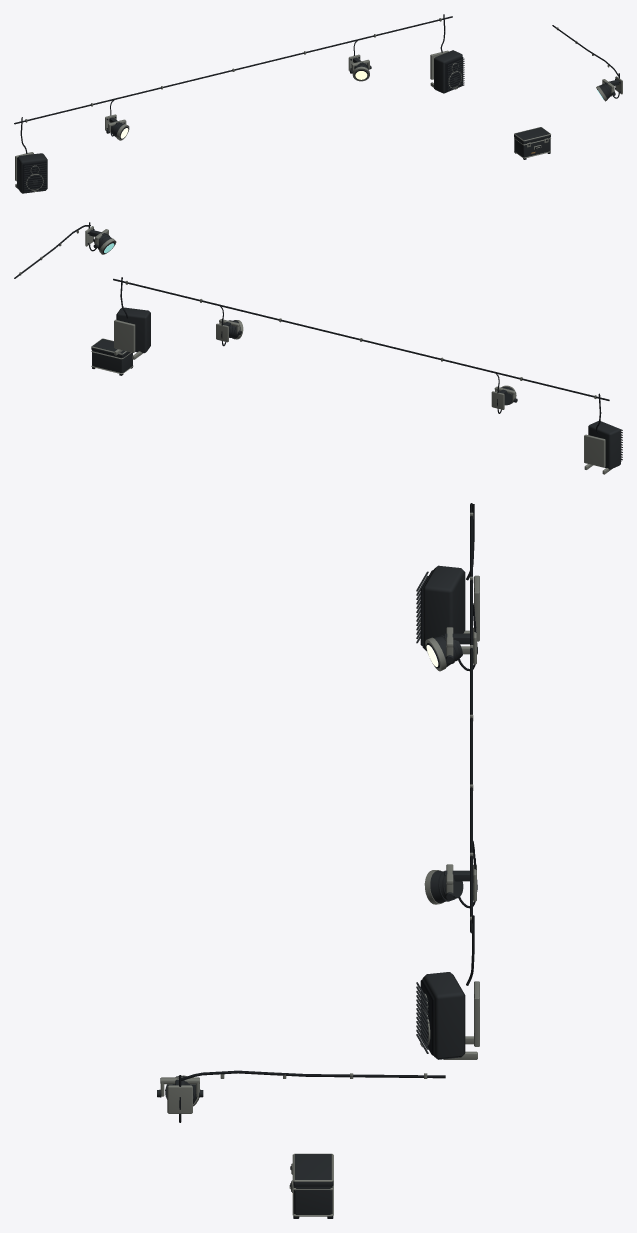
Rendered from club-lighting.glb.
3 views of the same model, one above another, from view 1: azimuth 30°, elevation 25°; view 2: azimuth 150°, elevation 25°; view 3: azimuth 270°, elevation 25° (orthographic). The views are drawn at different scales.
Parts seen in each view (by area): view 1: Club acoustic and lighting installation; view 2: Club acoustic and lighting installation; view 3: Club acoustic and lighting installation.
Boxes of the visible parts, box(x1,y1,x2,y2) form: Club acoustic and lighting installation: box(14, 14, 622, 193); Club acoustic and lighting installation: box(14, 222, 622, 474); Club acoustic and lighting installation: box(157, 503, 479, 1218).
Size of the model in its own units: 15.51 by 3.36 by 4.05.
